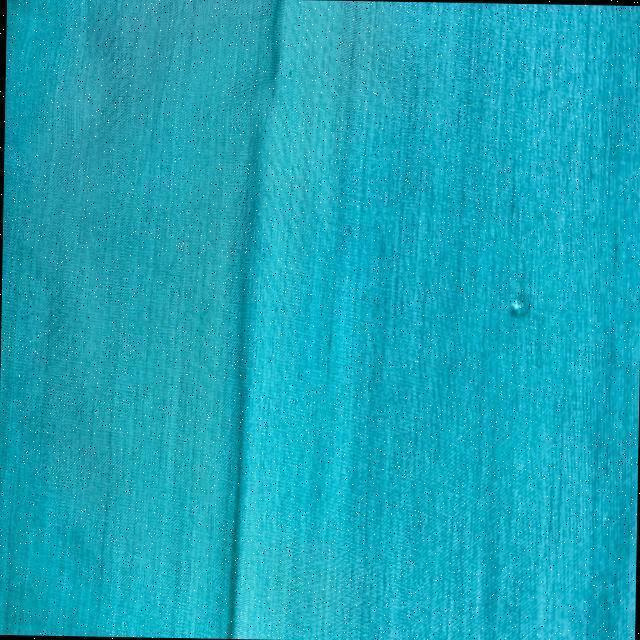broken_yarn: (219, 3, 281, 635)
